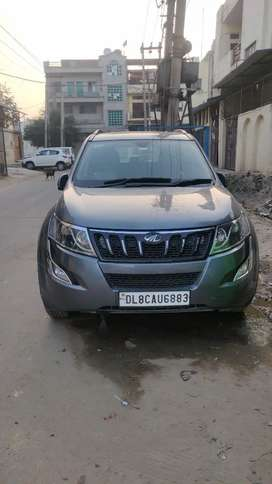DL8CAU6883: (118, 290, 190, 307)
